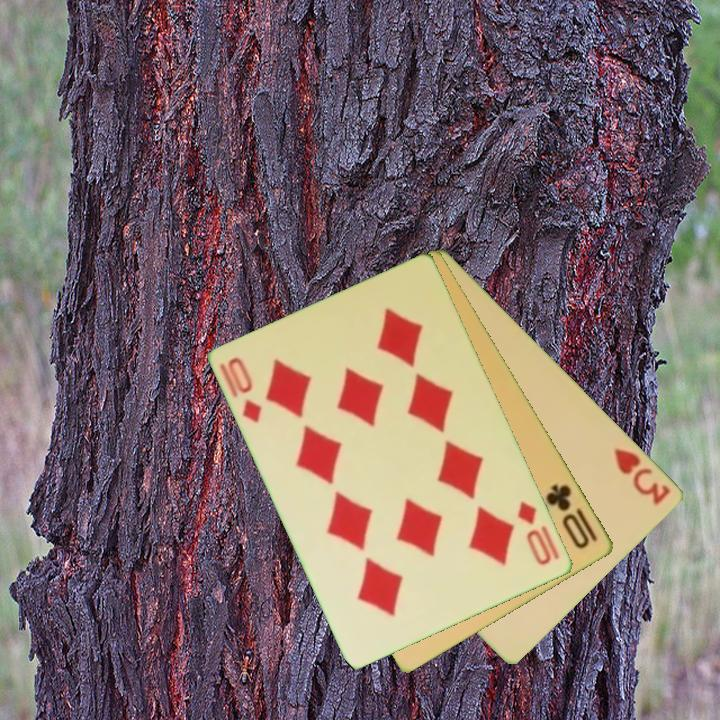10c: (542, 480, 601, 552)
10d: (514, 498, 563, 569), (225, 354, 266, 426)
3h: (610, 444, 674, 508)
